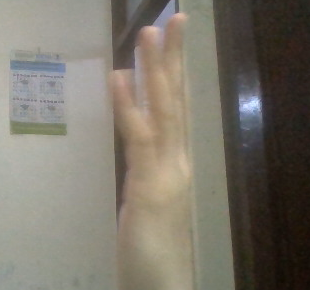move: (95, 10, 235, 290)
